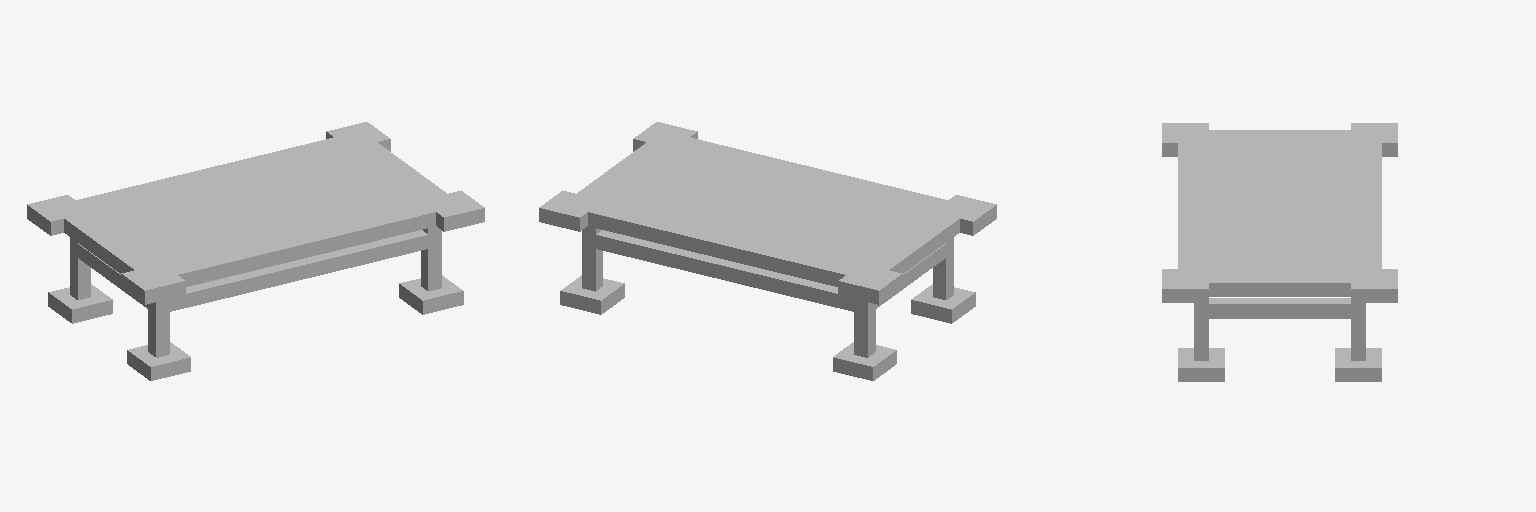
File: table_1.obj
3 renders of one model, left to right at view 1: azimuth 30°, elevation 25°; view 2: azimuth 150°, elevation 25°; view 3: azimuth 270°, elevation 25°, orthographic.
Parts seen in each view (by area): view 1: object 1; view 2: object 1; view 3: object 1.
Boxes of the visible parts, x1=… form: object 1: x1=27, y1=122, x2=484, y2=380; object 1: x1=539, y1=122, x2=996, y2=380; object 1: x1=1162, y1=123, x2=1397, y2=381.
Bounding box in the file's own units: 2.5 × 0.7 × 1.5.